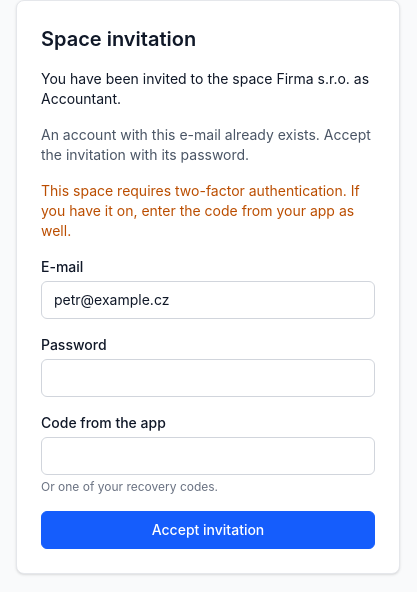
Test case: InviteAcceptView › two-factor authentication › explains 403 mfa_required for an existing account without TOTP
This screenshot has width=417, height=592.
In the password field with test id "accept-password": [208, 378] box [41, 359, 375, 397], type "my password!"
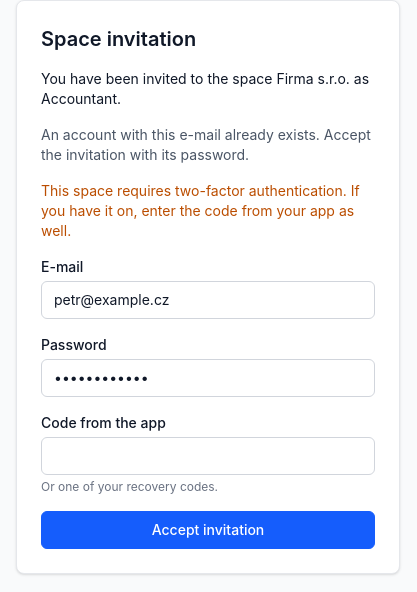
Submit the form
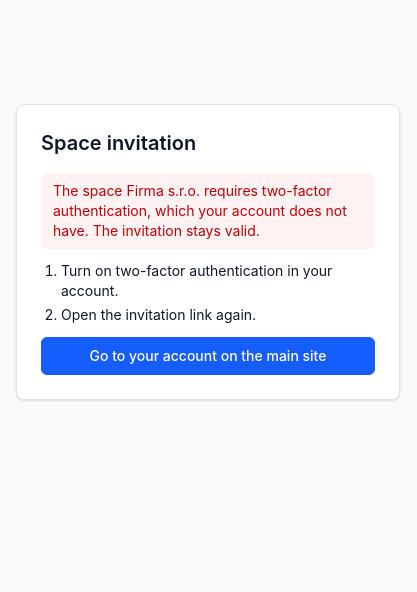
Check: the element with test id "accept-mfa-existing" shows "Firma s.r.o. requires two-factor authentication", box [53, 182, 347, 239]
Check: the number of list items is 2, box [61, 261, 375, 301]; [61, 306, 256, 323]
